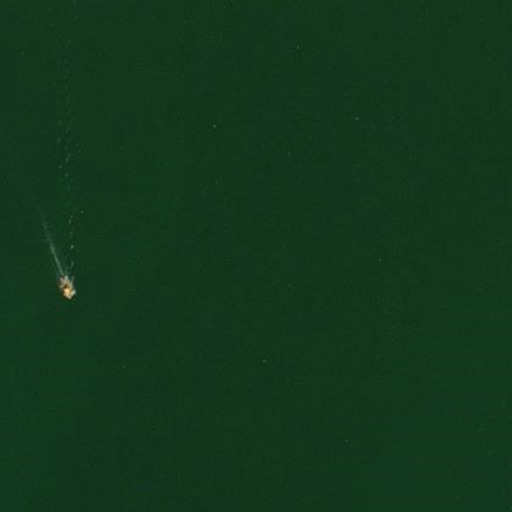ship: (57, 279, 79, 303)
